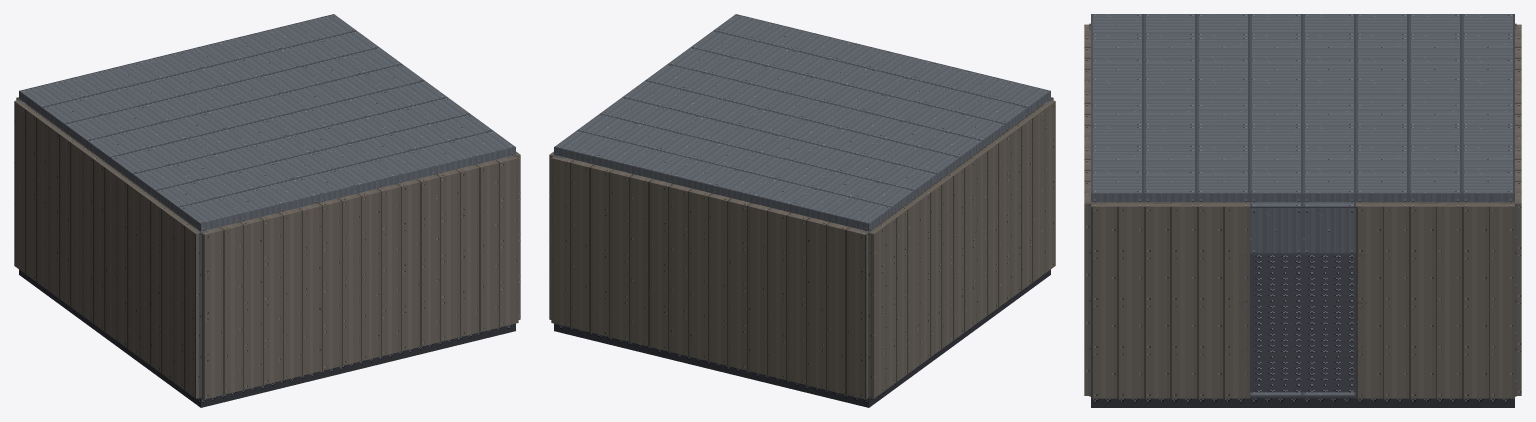
Rendered from elevator_car.glb.
3 renders of one model, left to right at view 1: azimuth 30°, elevation 25°; view 2: azimuth 150°, elevation 25°; view 3: azimuth 270°, elevation 25°, orthographic. The views are drawn at different scales.
Parts seen in each view (by area): view 1: Ceiling, Wall_S_back, Wall_W_back, Floor_Base, Post_-1_-1, Wall_E_b_back; view 2: Ceiling, Wall_N_back, Wall_W_back, Floor_Base, Post_-1_1, Wall_E_a_back; view 3: Ceiling, Wall_E_b_back, Wall_E_a_back, Floor_Frame, Wall_E_lintel, Floor_Base, Wall_S_back, Wall_N_back, DoorThreshold, DoorFrame_jambB, DoorFrame_jambA, Post_1_1 (+1 smaller).
Part boxes in pixels (<box>): Ceiling: <box>19,14,515,231</box>; Wall_S_back: <box>201,155,518,399</box>; Wall_W_back: <box>14,100,204,398</box>; Floor_Base: <box>19,269,515,407</box>; Post_-1_-1: <box>195,228,210,398</box>; Wall_E_b_back: <box>510,151,520,319</box>; Ceiling: <box>554,14,1050,231</box>; Wall_N_back: <box>551,156,869,399</box>; Wall_W_back: <box>865,100,1055,398</box>; Floor_Base: <box>554,269,1050,407</box>; Post_-1_1: <box>858,228,875,398</box>; Wall_E_a_back: <box>549,151,558,319</box>; Ceiling: <box>1091,14,1514,202</box>; Wall_E_b_back: <box>1091,202,1249,398</box>; Wall_E_a_back: <box>1356,202,1514,398</box>; Floor_Frame: <box>1250,254,1355,392</box>; Wall_E_lintel: <box>1250,202,1355,254</box>; Floor_Base: <box>1091,398,1514,407</box>; Wall_S_back: <box>1084,24,1097,395</box>; Wall_N_back: <box>1508,24,1521,395</box>; DoorThreshold: <box>1250,392,1355,398</box>; DoorFrame_jambB: <box>1238,255,1248,398</box>; DoorFrame_jambA: <box>1357,254,1367,398</box>; Post_1_1: <box>1501,203,1516,396</box>.
Bounding box in the file's own units: 8.25 × 4.47 × 8.25.
Materials: 5 (4 with a texture image).
